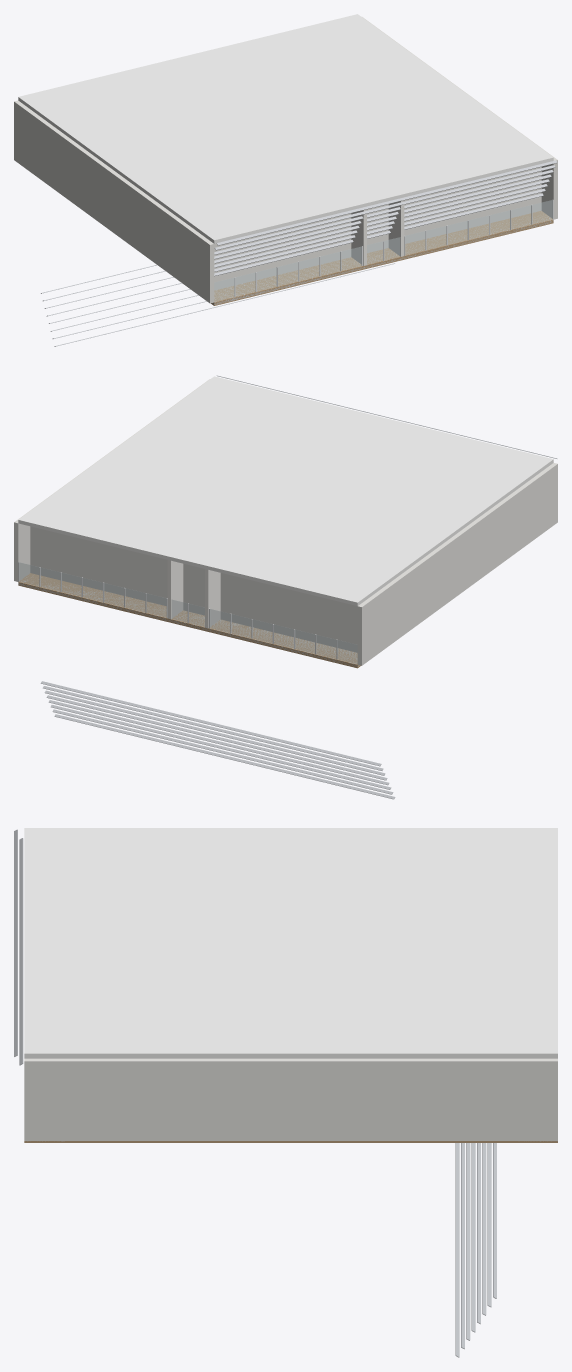
Rendered from resident.glb.
3 renders of one model, top to bottom at view 1: azimuth 30°, elevation 25°; view 2: azimuth 150°, elevation 25°; view 3: azimuth 270°, elevation 25°, orthographic. The views are drawn at different scales.
Visible parts, largest first — view 1: DC_CeilingSlab, DC_Wall_West, DC_Wall_South, DC_Rail_South_Glass, DC_FloorSlab, DC_Balcony_South_Floor, DC_Louver_S_07, DC_Louver_S_06, DC_Louver_S_05, DC_Louver_S_04, DC_Louver_S_03, DC_Louver_S_02 (+6 smaller); view 2: DC_CeilingSlab, DC_Wall_North, DC_Wall_West, DC_Rail_North_Glass, DC_FloorSlab, DC_Balcony_North_Floor, DC_Louver_N_01, DC_Louver_N_00, DC_Louver_N_04, DC_Louver_N_07, DC_Louver_N_02, DC_Louver_N_03 (+5 smaller); view 3: DC_CeilingSlab, DC_Wall_East, DC_Louver_S_06, DC_Louver_N_00, DC_FloorSlab, DC_Louver_N_02, DC_Louver_N_03, DC_Louver_S_07, DC_Louver_N_05, DC_Louver_N_01, DC_Louver_N_06, DC_Louver_N_04.
Boxes of the visible parts, <box> form: DC_CeilingSlab: <box>18,14,553,243</box>; DC_Wall_West: <box>14,100,214,303</box>; DC_Wall_South: <box>214,167,541,290</box>; DC_Rail_South_Glass: <box>214,200,552,301</box>; DC_FloorSlab: <box>211,211,553,305</box>; DC_Balcony_South_Floor: <box>212,216,553,304</box>; DC_Louver_S_07: <box>216,160,557,245</box>; DC_Louver_S_06: <box>214,165,555,250</box>; DC_Louver_S_05: <box>214,170,553,254</box>; DC_Louver_S_04: <box>214,174,551,259</box>; DC_Louver_S_03: <box>214,179,549,263</box>; DC_Louver_S_02: <box>214,184,547,267</box>; DC_CeilingSlab: <box>18,376,553,606</box>; DC_Wall_North: <box>30,526,357,652</box>; DC_Wall_West: <box>357,463,557,665</box>; DC_Rail_North_Glass: <box>19,562,357,663</box>; DC_FloorSlab: <box>18,573,360,668</box>; DC_Balcony_North_Floor: <box>18,577,359,666</box>; DC_Louver_N_01: <box>52,709,393,794</box>; DC_Louver_N_00: <box>54,714,395,799</box>; DC_Louver_N_04: <box>46,695,387,780</box>; DC_Louver_N_07: <box>40,681,381,766</box>; DC_Louver_N_02: <box>50,705,391,789</box>; DC_Louver_N_03: <box>48,700,389,785</box>; DC_CeilingSlab: <box>24,828,557,1058</box>; DC_Wall_East: <box>24,1058,557,1140</box>; DC_Louver_S_06: <box>19,838,23,1065</box>; DC_Louver_N_00: <box>455,1143,459,1357</box>; DC_FloorSlab: <box>24,1141,557,1142</box>; DC_Louver_N_02: <box>466,1143,470,1340</box>; DC_Louver_N_03: <box>471,1143,475,1332</box>; DC_Louver_S_07: <box>14,829,17,1056</box>; DC_Louver_N_05: <box>482,1143,486,1315</box>; DC_Louver_N_01: <box>461,1143,464,1349</box>; DC_Louver_N_06: <box>487,1143,491,1307</box>; DC_Louver_N_04: <box>477,1143,480,1324</box>.
Size of the model in its own units: 20.5 by 12.58 by 20.39.
